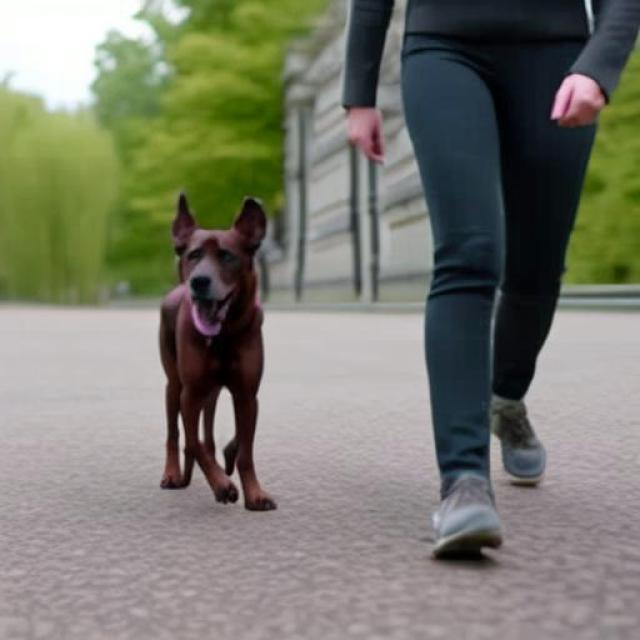Unleashed_Dog: (158, 9, 530, 513)
